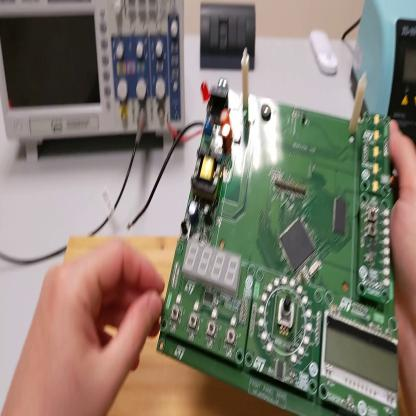hand: (2, 231, 166, 416), (388, 123, 416, 401)
low voltage board: (129, 41, 403, 416)
oscilloscope: (4, 2, 188, 161)
welder station: (353, 5, 414, 137)
